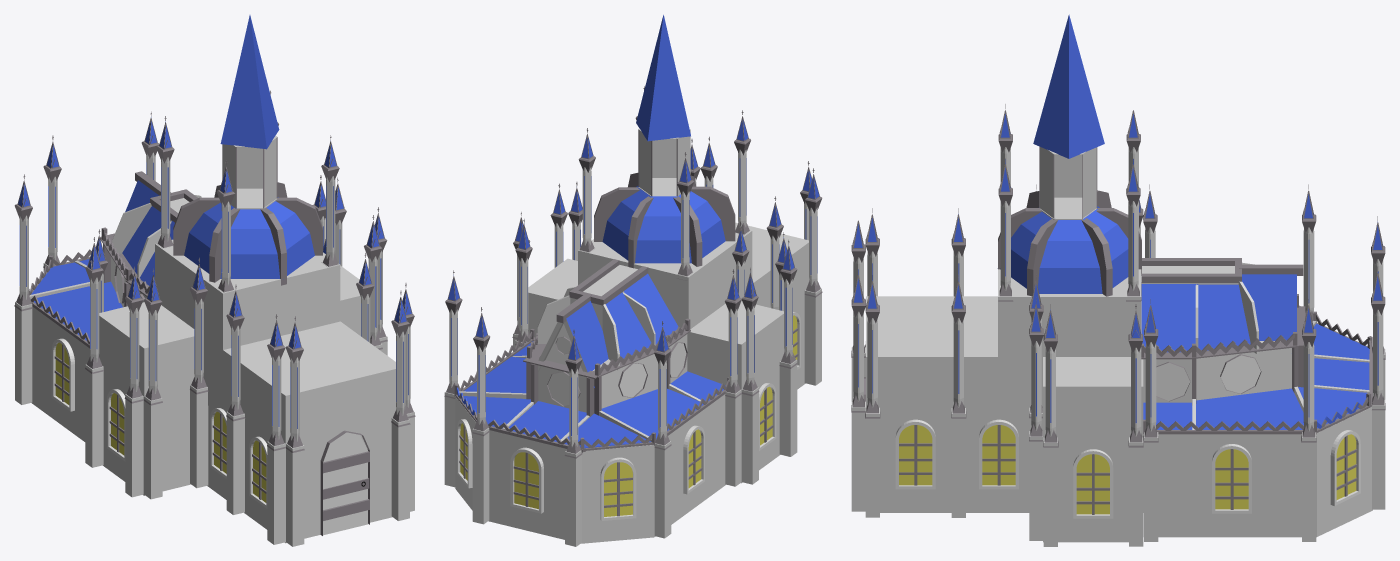
File: Sanctuary.fbx
3 views of the same model, side by side, from view 1: azimuth 30°, elevation 25°; view 2: azimuth 150°, elevation 25°; view 3: azimuth 270°, elevation 25° (orthographic). The views are drawn at different scales.
Visible parts, largest first — view 1: Cube.041; view 2: Cube.041; view 3: Cube.041.
Boxes of the visible parts, left/top/right/bottom form: Cube.041: left=14, top=15, right=415, bottom=546; Cube.041: left=444, top=15, right=822, bottom=546; Cube.041: left=851, top=14, right=1385, bottom=546.
Bounding box in the file's own units: 436 × 723 × 746.
